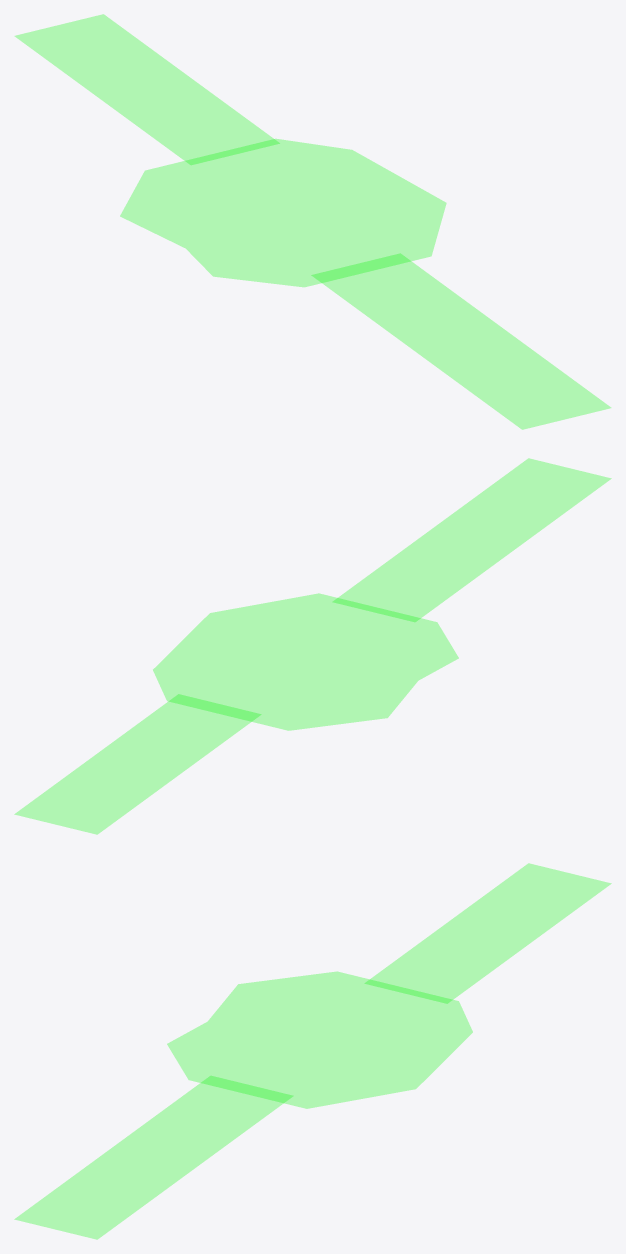
Rendered from s03a_ga1-floor.glb.
3 renders of one model, top to bottom at view 1: azimuth 30°, elevation 25°; view 2: azimuth 150°, elevation 25°; view 3: azimuth 330°, elevation 25°, orthographic. The views are drawn at different scales.
Parts seen in each view (by area): view 1: collision_floor-colonly; view 2: collision_floor-colonly; view 3: collision_floor-colonly.
Boxes of the visible parts, x1,y1,x2,y2 form: collision_floor-colonly: (15, 14, 610, 429); collision_floor-colonly: (14, 458, 611, 834); collision_floor-colonly: (14, 863, 611, 1239).
Bounding box in the file's own units: 17.33 × 0.1484 × 61.5.
